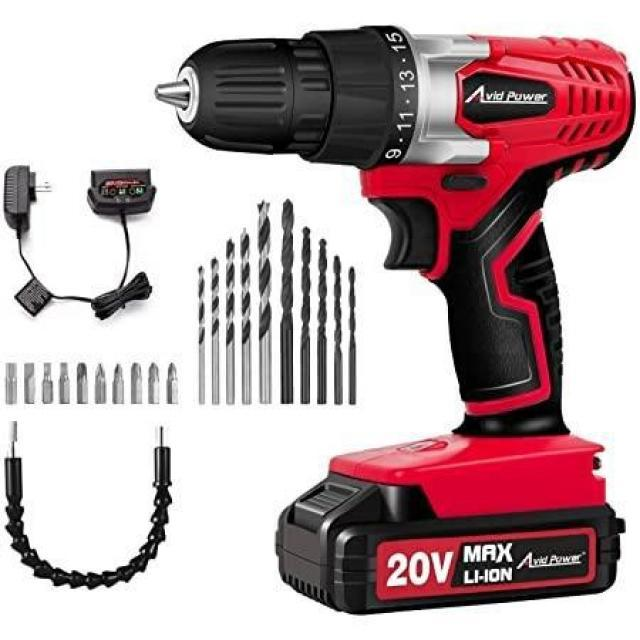drill: (154, 24, 636, 616)
